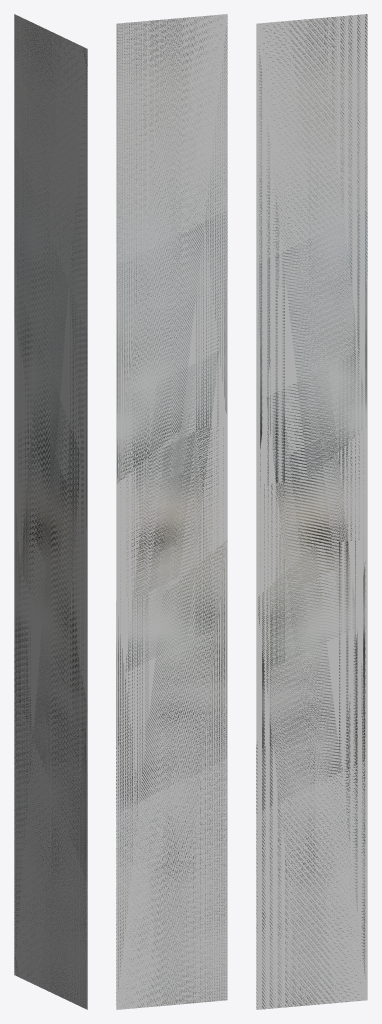
The model's file is 西庸城堡576.dae.
The picture shows the model from 3 angles, left to right: view 1: azimuth 90°, elevation 25°; view 2: azimuth 150°, elevation 25°; view 3: azimuth 330°, elevation 25°; orthographic projection. The views are drawn at different scales.
Parts seen in each view (by area): view 1: SketchUp; view 2: SketchUp; view 3: SketchUp.
Boxes of the visible parts, x1,y1,x2,y2 form: SketchUp: [14, 14, 87, 1009]; SketchUp: [116, 14, 227, 1009]; SketchUp: [256, 14, 367, 1009].
Size of the model in its own units: 12.66 by 11.24 by 163.
